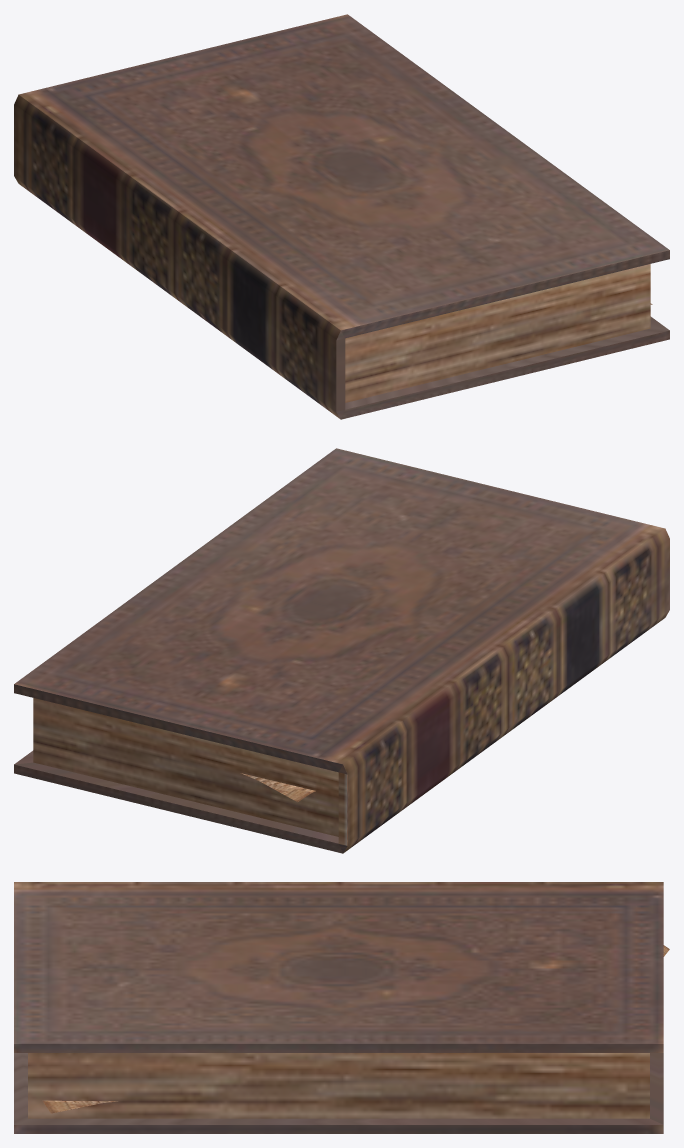
Rendered from Book01.fbx.
3 views of the same model, one above another, from view 1: azimuth 30°, elevation 25°; view 2: azimuth 150°, elevation 25°; view 3: azimuth 270°, elevation 25° (orthographic).
Parts seen in each view (by area): view 1: pCube365; view 2: pCube365; view 3: pCube365.
Boxes of the visible parts, x1,y1,x2,y2 form: pCube365: (14,14,669,419); pCube365: (14,448,669,853); pCube365: (14,882,669,1133).
Size of the model in its own units: 45.57 by 11.59 by 76.63.
